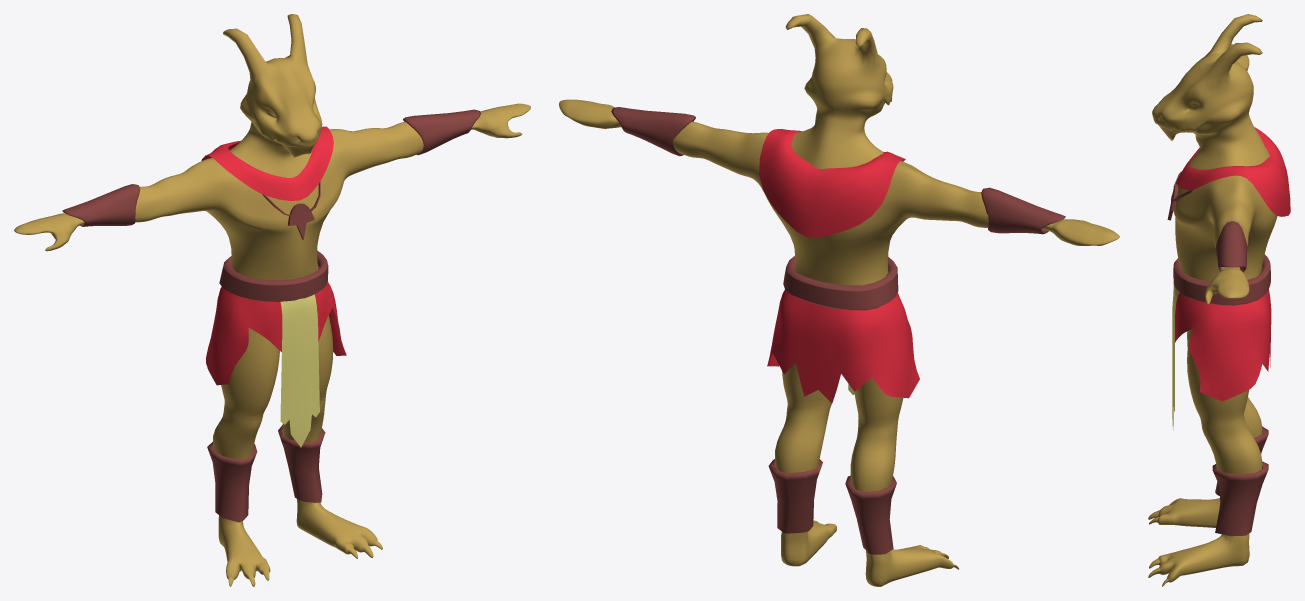
File: Hand to hand combat .fbx
The picture shows the model from 3 angles, left to right: view 1: azimuth 30°, elevation 25°; view 2: azimuth 150°, elevation 25°; view 3: azimuth 270°, elevation 25°; orthographic projection. The views are drawn at different scales.
Parts seen in each view (by area): view 1: Cube.003, Cube.007, Cube.008, Cube.009, Cube.002, Cube.005, Cube.004, Cube; view 2: Cube.003, Cube.007, Cube.005, Cube.009, Cube.002, Cube.004; view 3: Cube.003, Cube.007, Cube.005, Cube.009, Cube.004, Cube.002, Cube.008, Cube.
Boxes of the visible parts, box(x1,y1,x2,y2) form: Cube.003: box(14, 14, 530, 586); Cube.007: box(206, 269, 346, 385); Cube.008: box(280, 294, 319, 447); Cube.009: box(207, 425, 325, 522); Cube.002: box(62, 109, 480, 226); Cube.005: box(201, 126, 333, 200); Cube.004: box(219, 250, 328, 302); Cube: box(262, 181, 320, 239); Cube.003: box(559, 14, 1119, 586); Cube.007: box(767, 290, 919, 403); Cube.005: box(759, 129, 905, 237); Cube.009: box(768, 459, 896, 554); Cube.002: box(611, 107, 1065, 234); Cube.004: box(783, 256, 898, 310); Cube.003: box(1148, 14, 1277, 586); Cube.007: box(1175, 270, 1271, 401); Cube.005: box(1176, 127, 1290, 216); Cube.009: box(1212, 426, 1268, 536); Cube.004: box(1173, 254, 1270, 305); Cube.002: box(1215, 221, 1247, 272); Cube.008: box(1172, 285, 1179, 430); Cube: box(1167, 171, 1193, 220).
Bounding box in the file's own units: 184 × 176 × 43.57.
